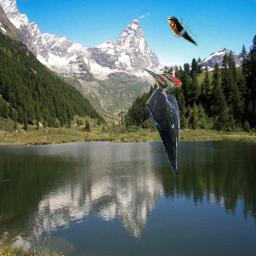Swallow: (167, 16, 198, 46)
Woodpecker: (141, 67, 182, 176)
